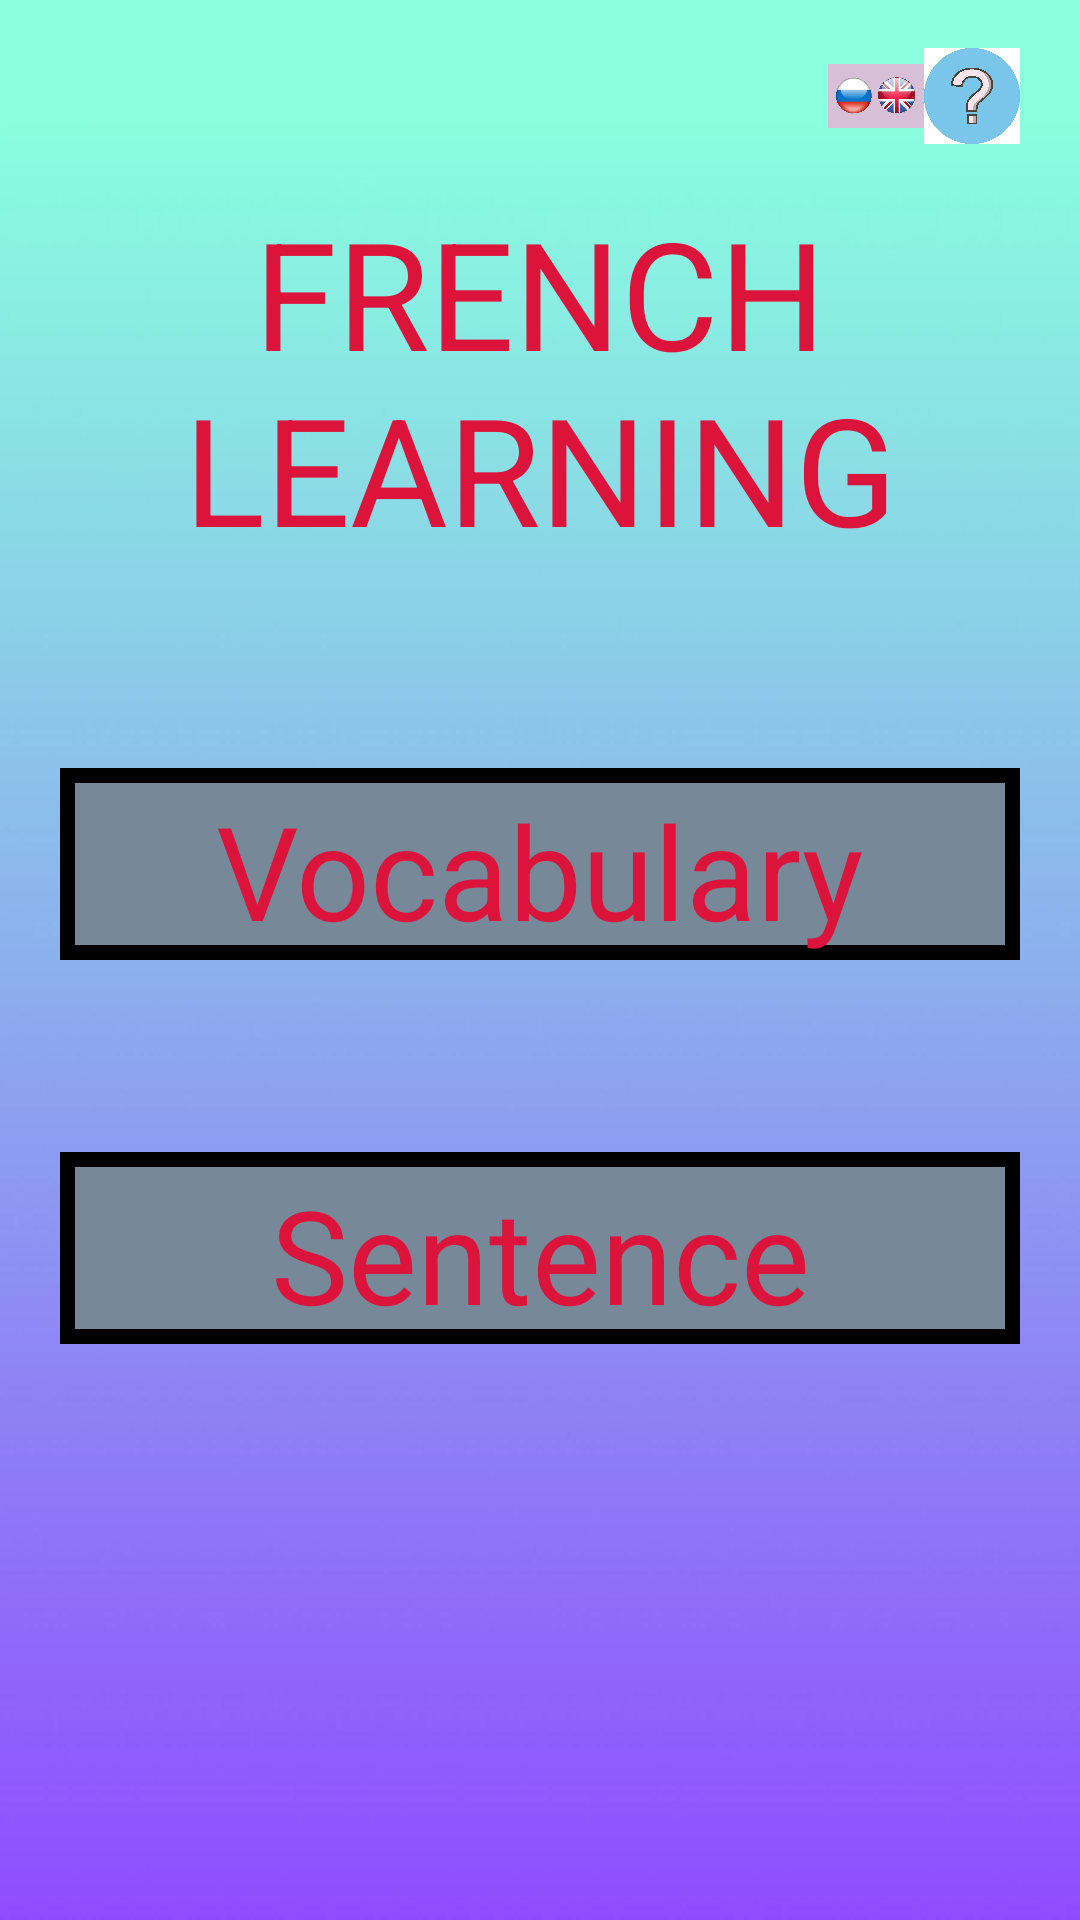

Icon click points for this 1080px x 1920px phone screenshot, format [x,y]:
language: [876,96]
rules: [972,96]
